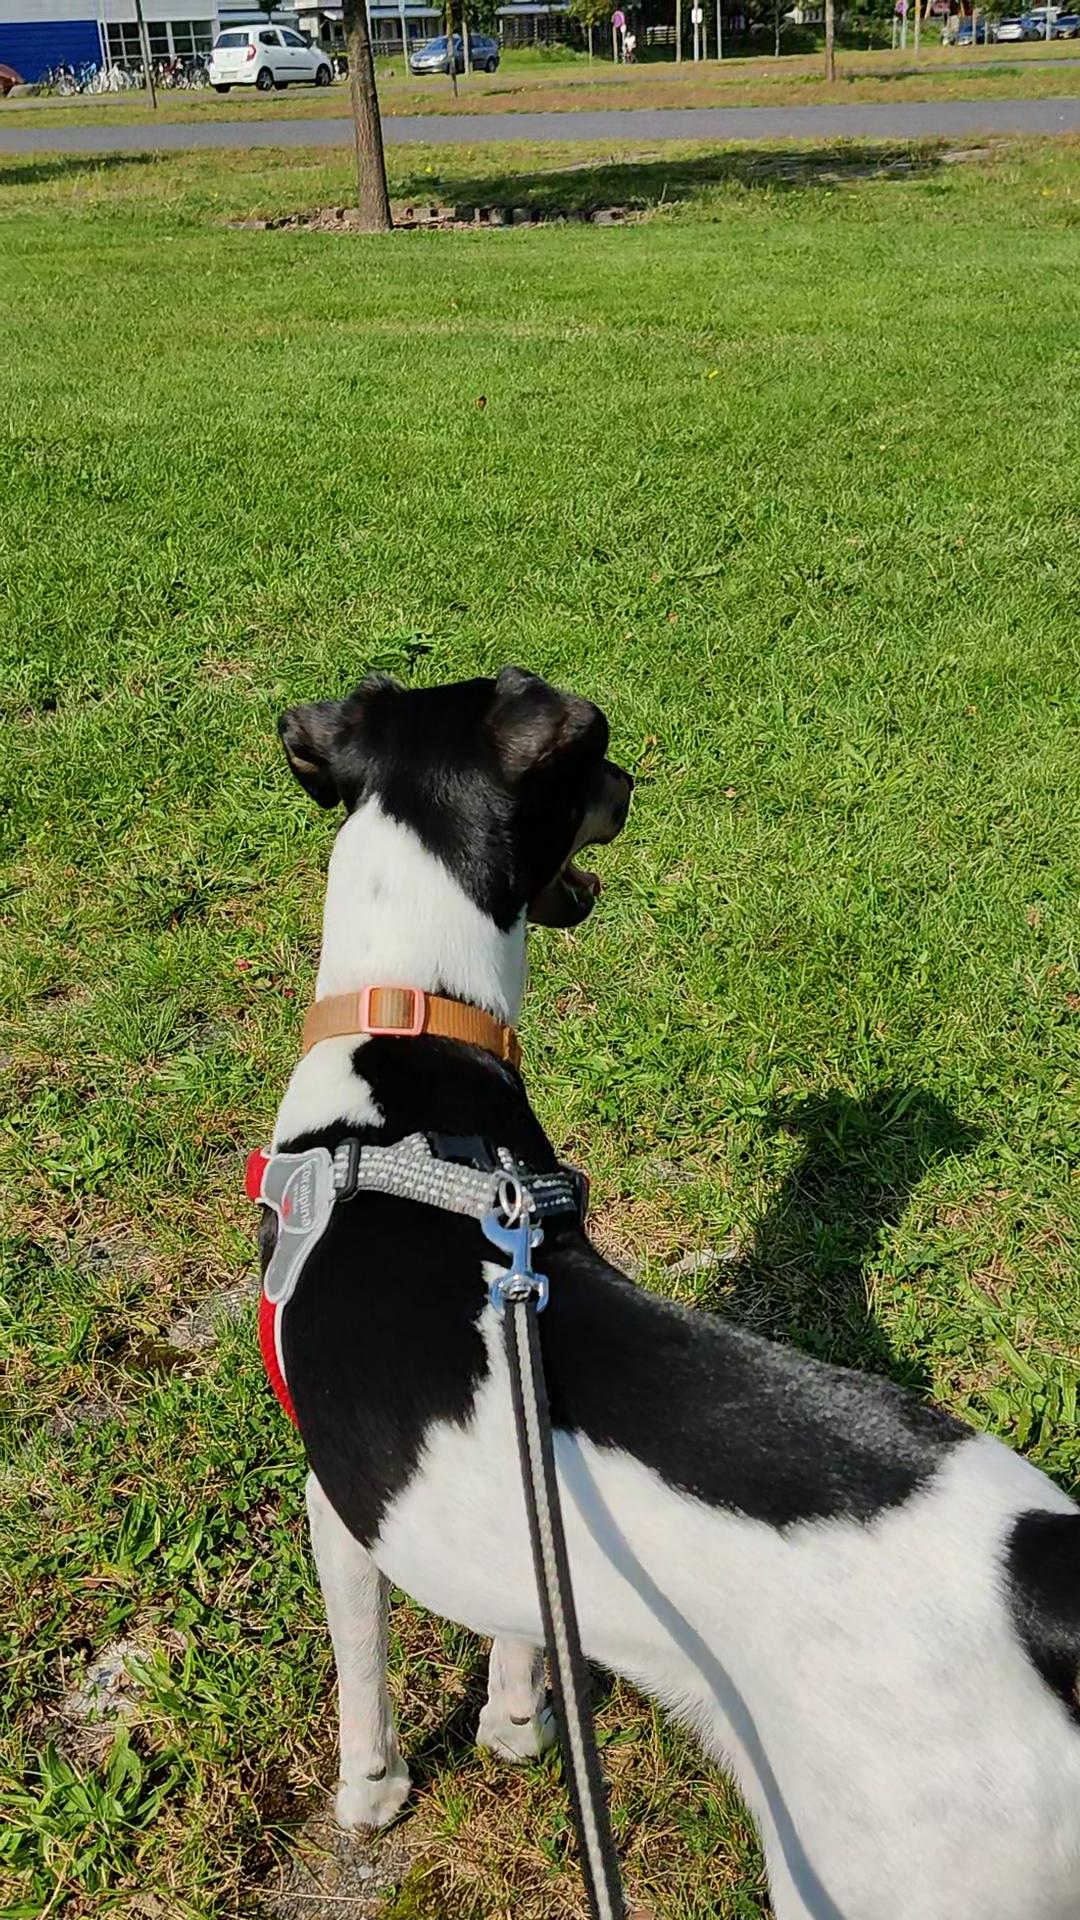Dog: (237, 659, 1079, 1919)
